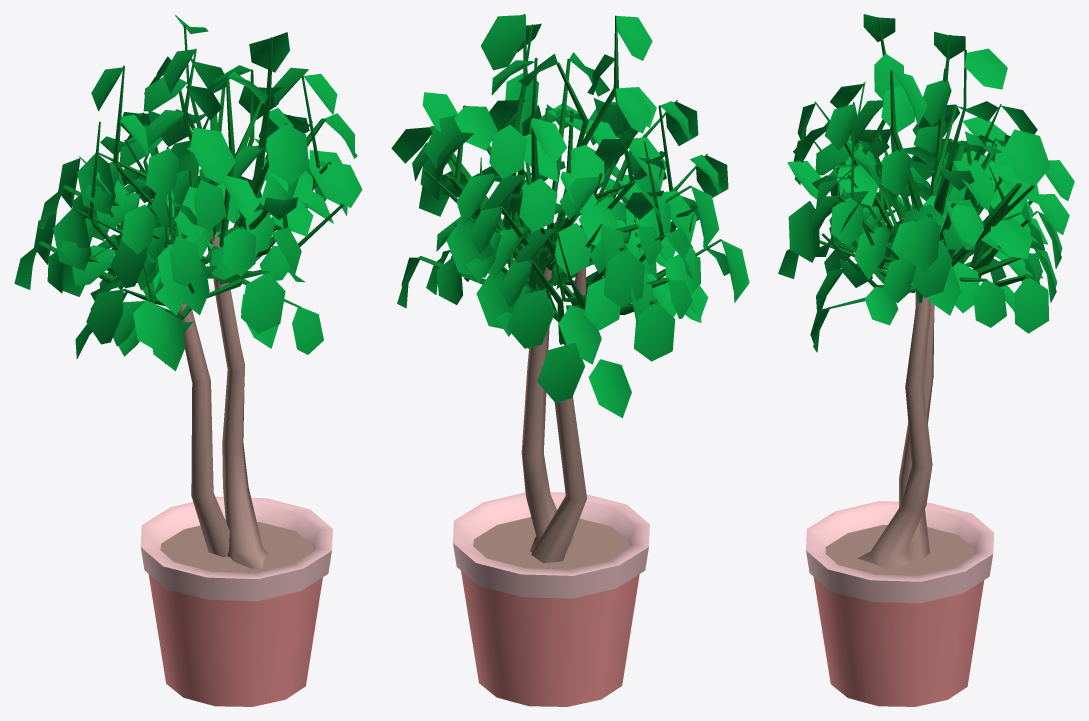
The model's file is flower_032.glb.
The picture shows the model from 3 angles, left to right: view 1: azimuth 30°, elevation 25°; view 2: azimuth 150°, elevation 25°; view 3: azimuth 270°, elevation 25°; orthographic projection. The views are drawn at different scales.
Visible parts, largest first — view 1: flower_032; view 2: flower_032; view 3: flower_032.
Part boxes in pixels (x1=…): flower_032: x1=14, y1=14, x2=362, y2=706; flower_032: x1=391, y1=14, x2=749, y2=706; flower_032: x1=778, y1=14, x2=1074, y2=706.
Size of the model in its own units: 0.682 by 1.38 by 0.5824.
1 material, 1 textured.
